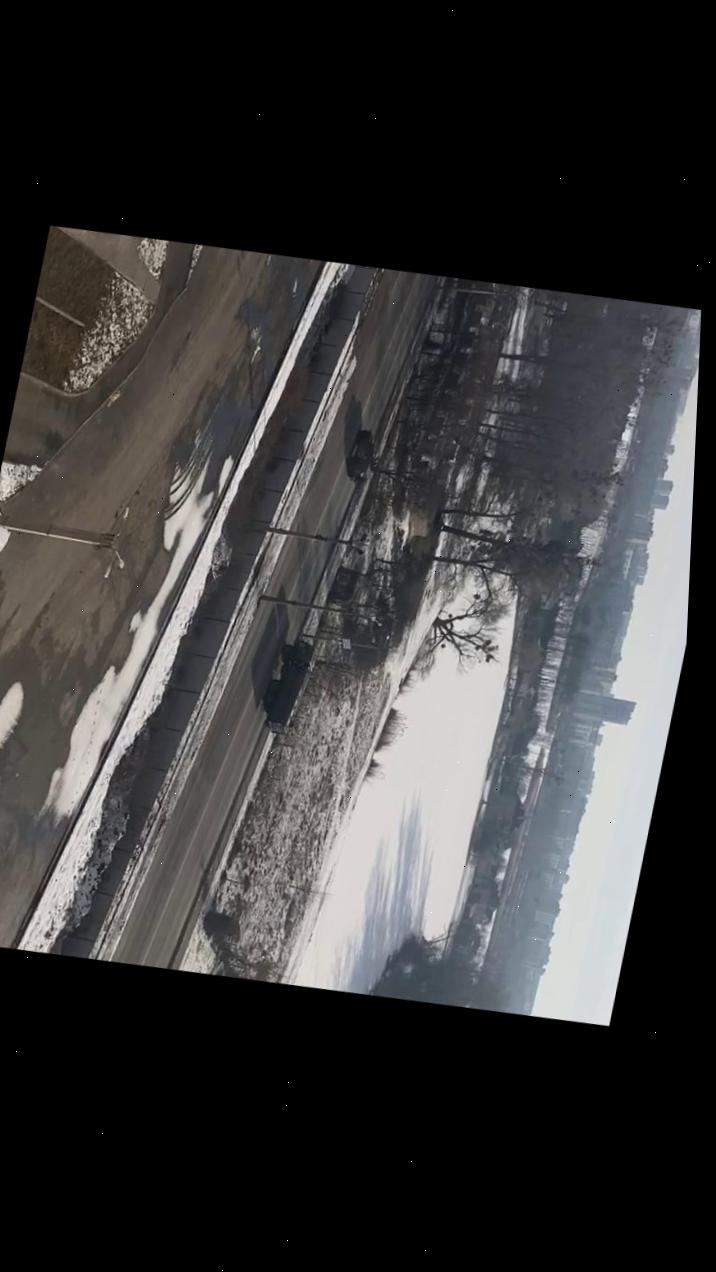armored_car: (342, 426, 383, 487)
car: (0, 470, 25, 563)
truck: (256, 634, 320, 738)
